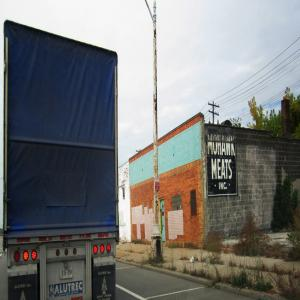Vehicle-registration-plate: (61, 265, 75, 280)
